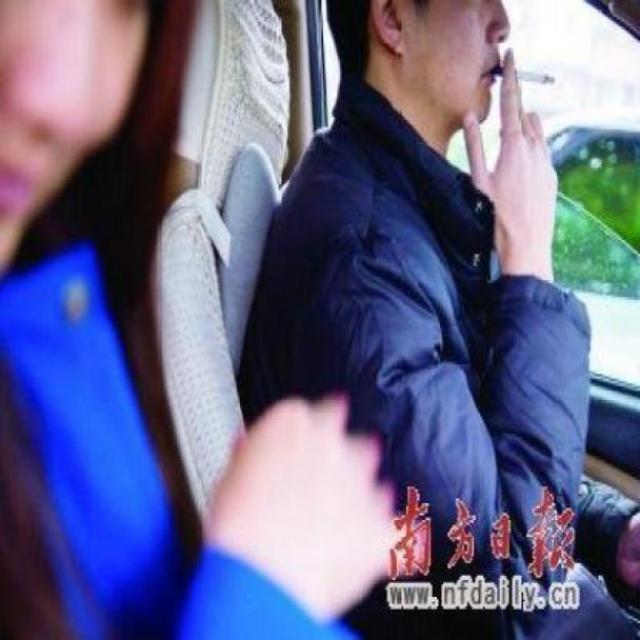rokok: (482, 54, 562, 94)
